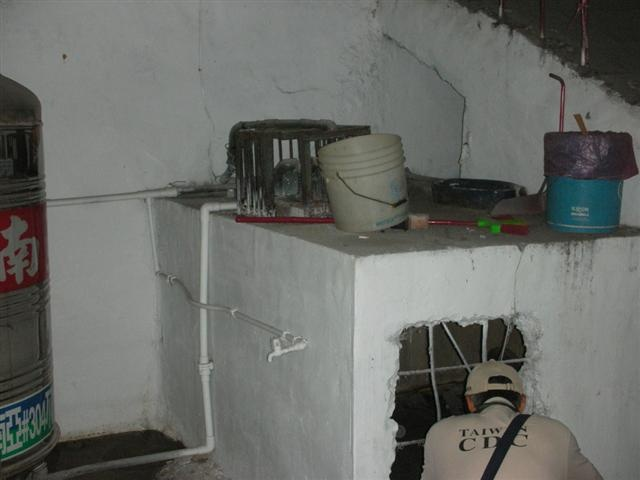bucket: (315, 132, 410, 235), (540, 130, 627, 230)
